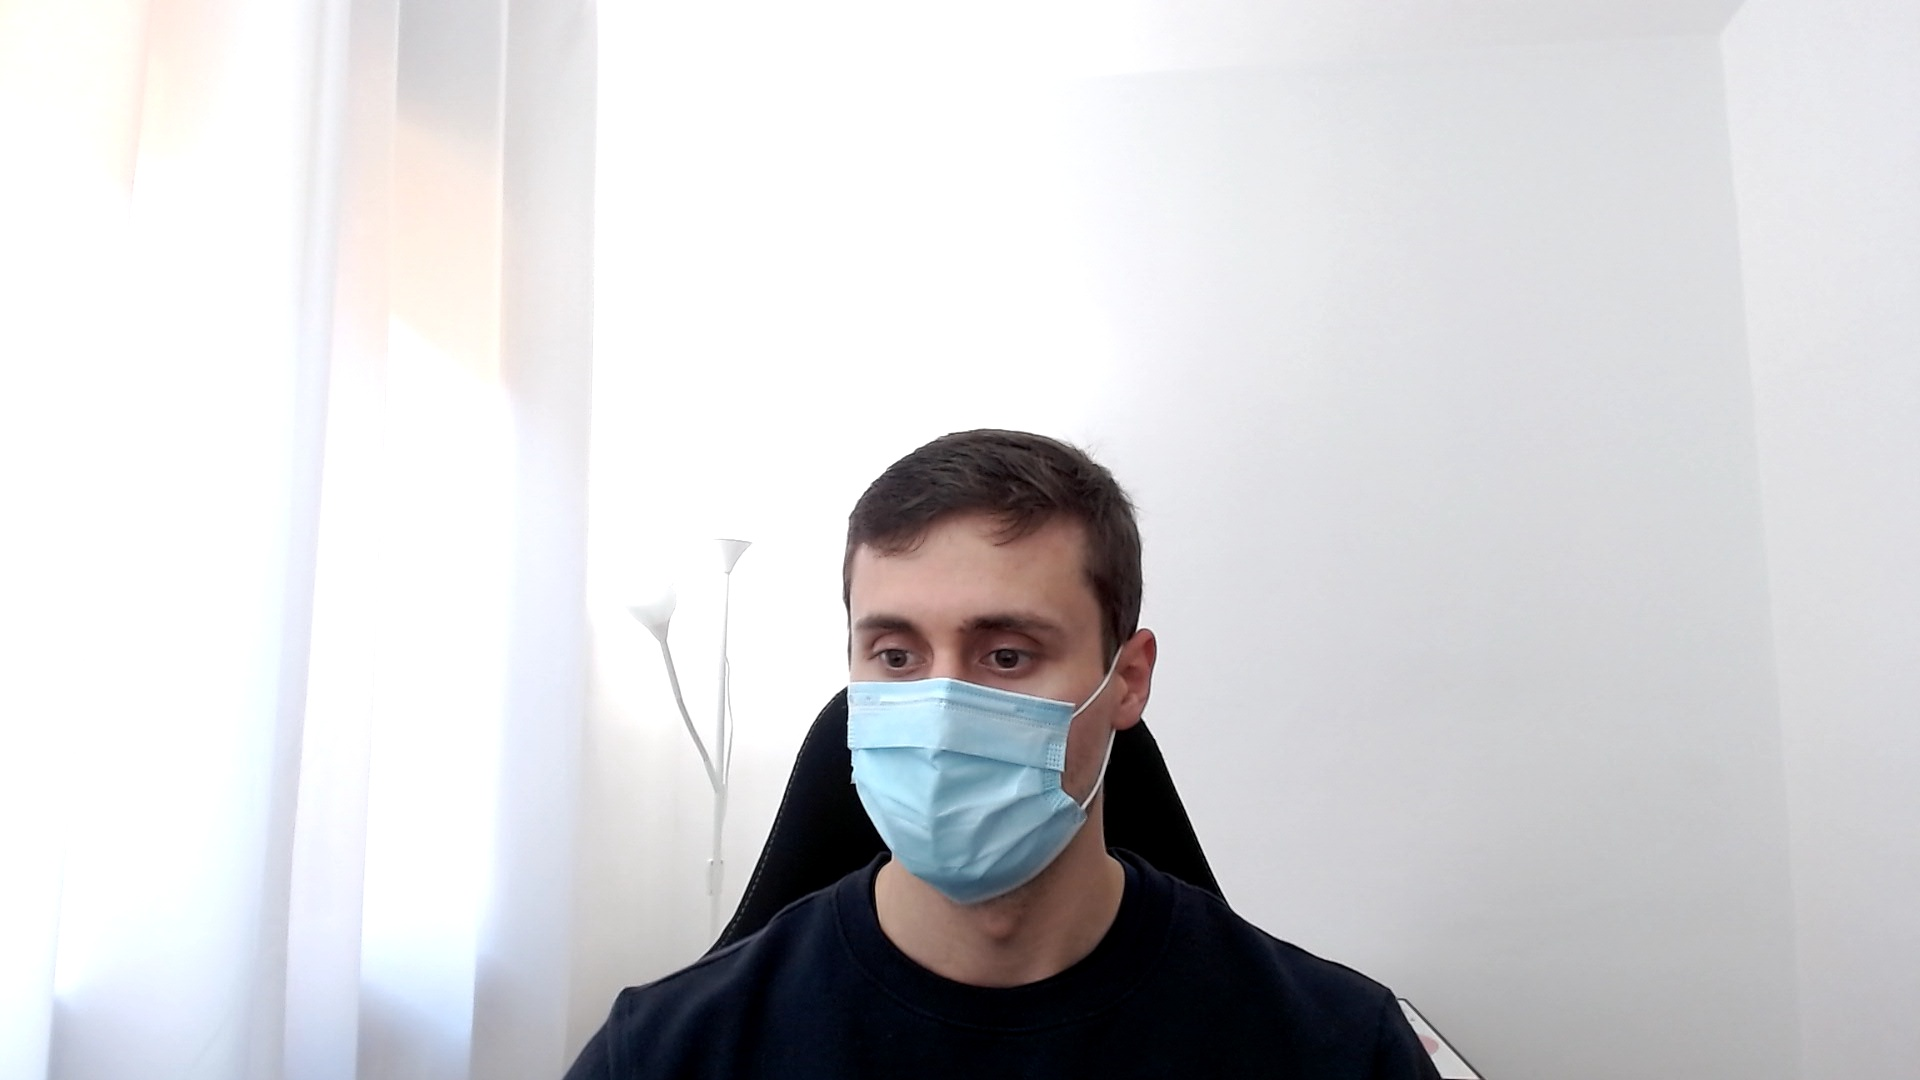Mask: (845, 430, 1156, 903)
